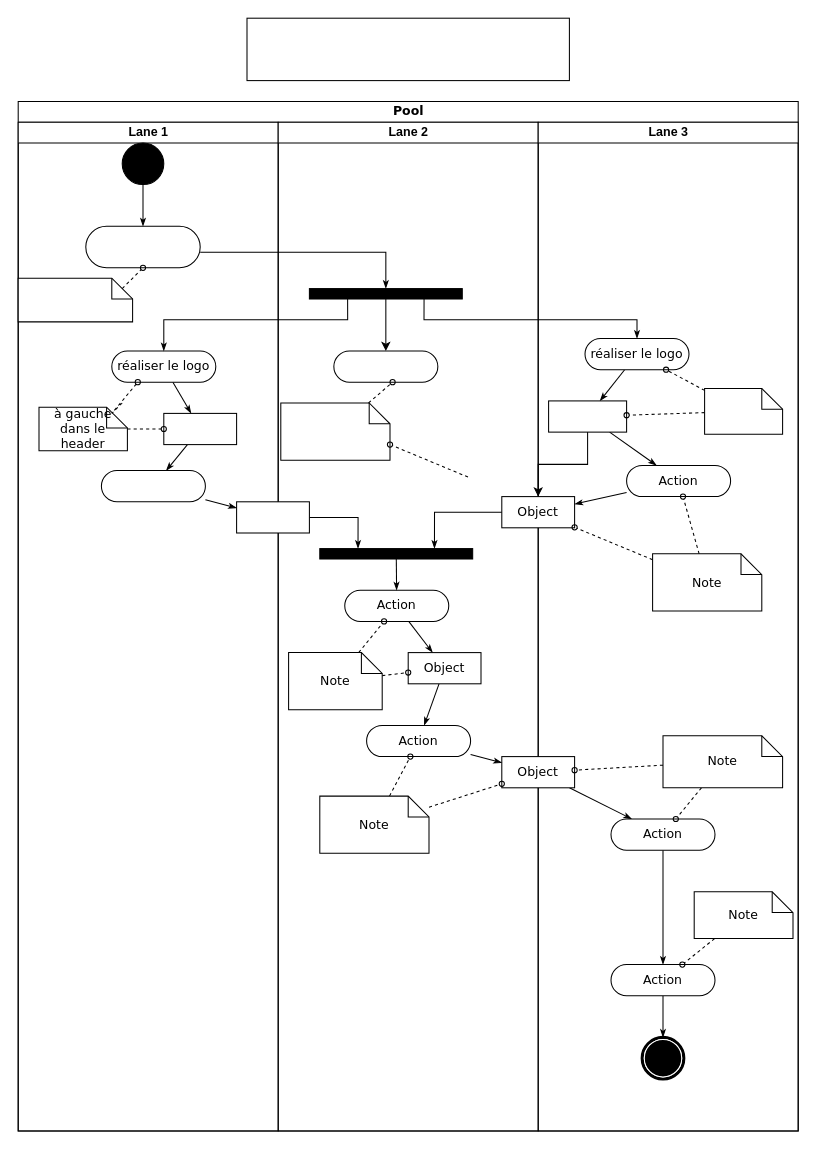
The diagram is 816 pixels wide and 1149 high, and some of its shapes have lost their labels. The shapes that lost their labels are listed below. From the top down, each one's centre as x and y in pixels, then its label:
At [407,49]: "DIAGRAMME DE CAS D'UTILISATION DU SITE JAY-TECH".
At [142,246]: "fixer le header".
At [75,299]: "commun à toutes les pages".
At [385,366]: "créer un menu".
At [200,428]: "JAY-TECH".
At [587,416]: "se connecter".
At [743,410]: "à droite dans le header".
At [335,431]: "dans la nav du header".
At [152,486]: "créer le lien vers".
At [272,517]: "page d'acceuil".
